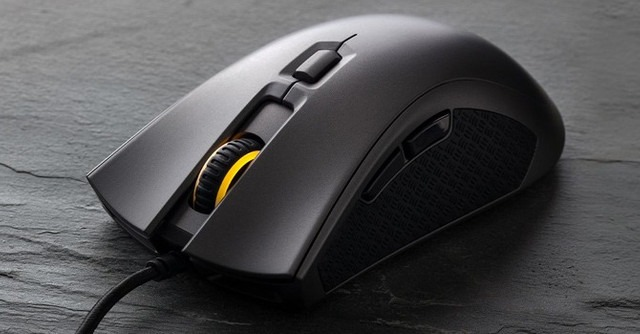mouse: (82, 12, 569, 307)
